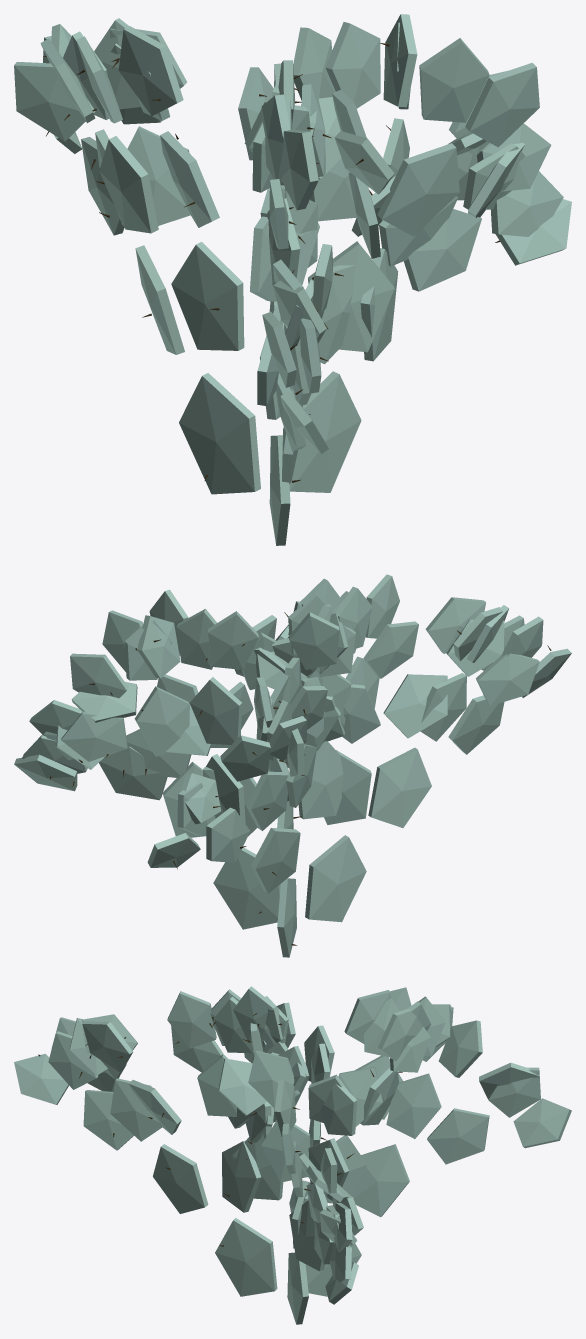
The model's file is prickly_pear_v01_LOD1.fbx.
3 views of the same model, one above another, from view 1: azimuth 30°, elevation 25°; view 2: azimuth 150°, elevation 25°; view 3: azimuth 270°, elevation 25° (orthographic). The views are drawn at different scales.
Parts seen in each view (by area): view 1: prickly_pear_v01_LOD1; view 2: prickly_pear_v01_LOD1; view 3: prickly_pear_v01_LOD1.
Boxes of the visible parts, left/top/right/bottom form: prickly_pear_v01_LOD1: left=14, top=14, right=571, bottom=545; prickly_pear_v01_LOD1: left=14, top=574, right=571, bottom=957; prickly_pear_v01_LOD1: left=14, top=986, right=571, bottom=1324.
Bounding box in the file's own units: 76.13 × 66.55 × 108.
Materials: 2 (1 with a texture image).
